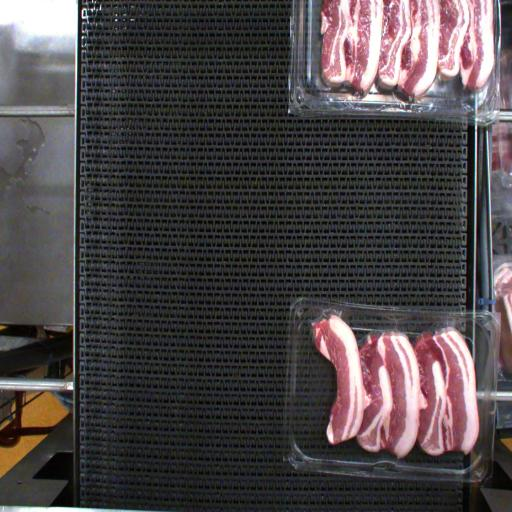packaging-error: (311, 304, 347, 336), (426, 317, 470, 339)
unsealed: (359, 323, 415, 347)
